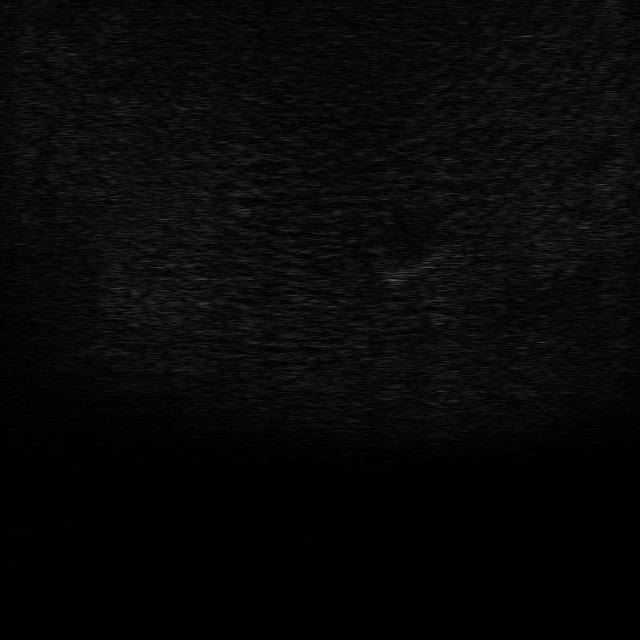plane: (372, 248, 442, 292)
